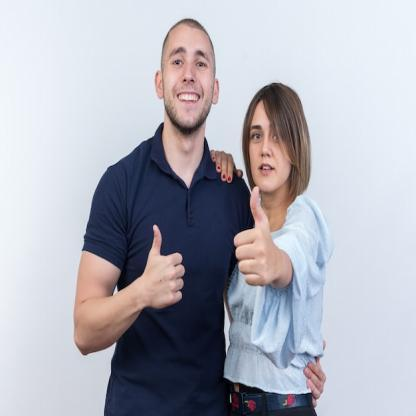thumb_up: (232, 183, 283, 289), (141, 222, 185, 312)
